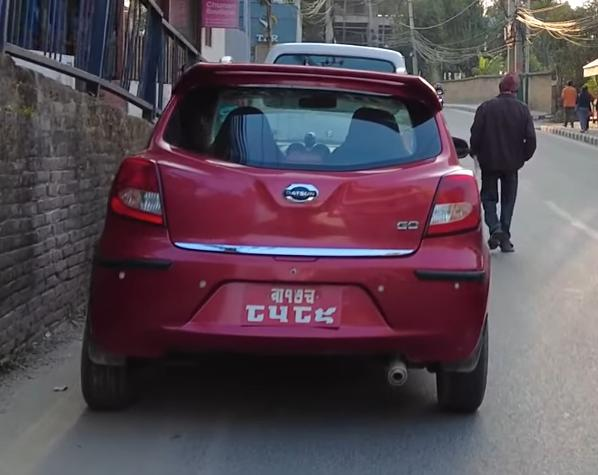car: (79, 47, 494, 425)
